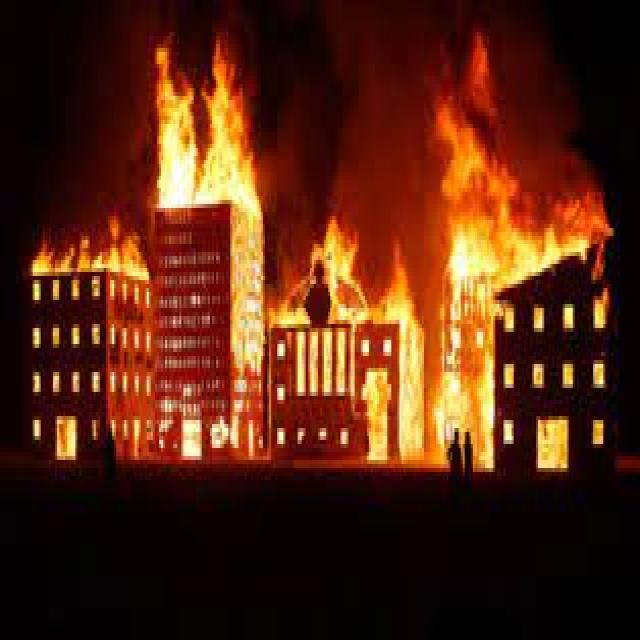Fire: (453, 203, 607, 464), (39, 222, 159, 434), (157, 64, 250, 212), (395, 276, 447, 466)
Smoke: (318, 5, 610, 238), (262, 32, 314, 238)
